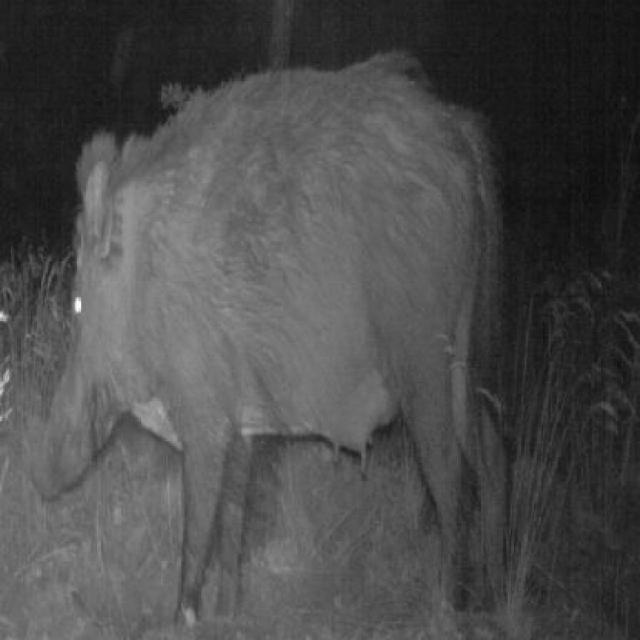Boar: (39, 41, 558, 640)
